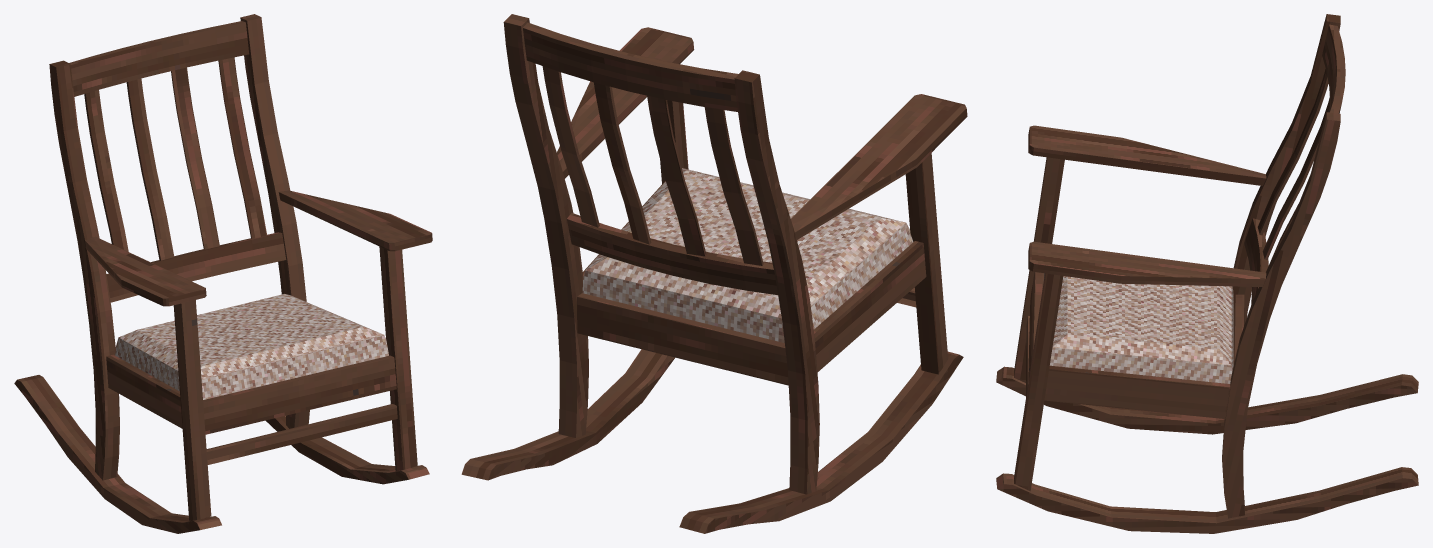
Rendered from Rocking_chair.fbx.
3 views of the same model, side by side, from view 1: azimuth 30°, elevation 25°; view 2: azimuth 150°, elevation 25°; view 3: azimuth 270°, elevation 25° (orthographic). The views are drawn at different scales.
Visible parts, largest first — view 1: Rocking_chair; view 2: Rocking_chair; view 3: Rocking_chair.
Part boxes in pixels (<box>): Rocking_chair: <box>14,14,432,533</box>; Rocking_chair: <box>461,14,967,533</box>; Rocking_chair: <box>996,14,1418,533</box>.
Size of the model in its own units: 88.79 by 123 by 115.
